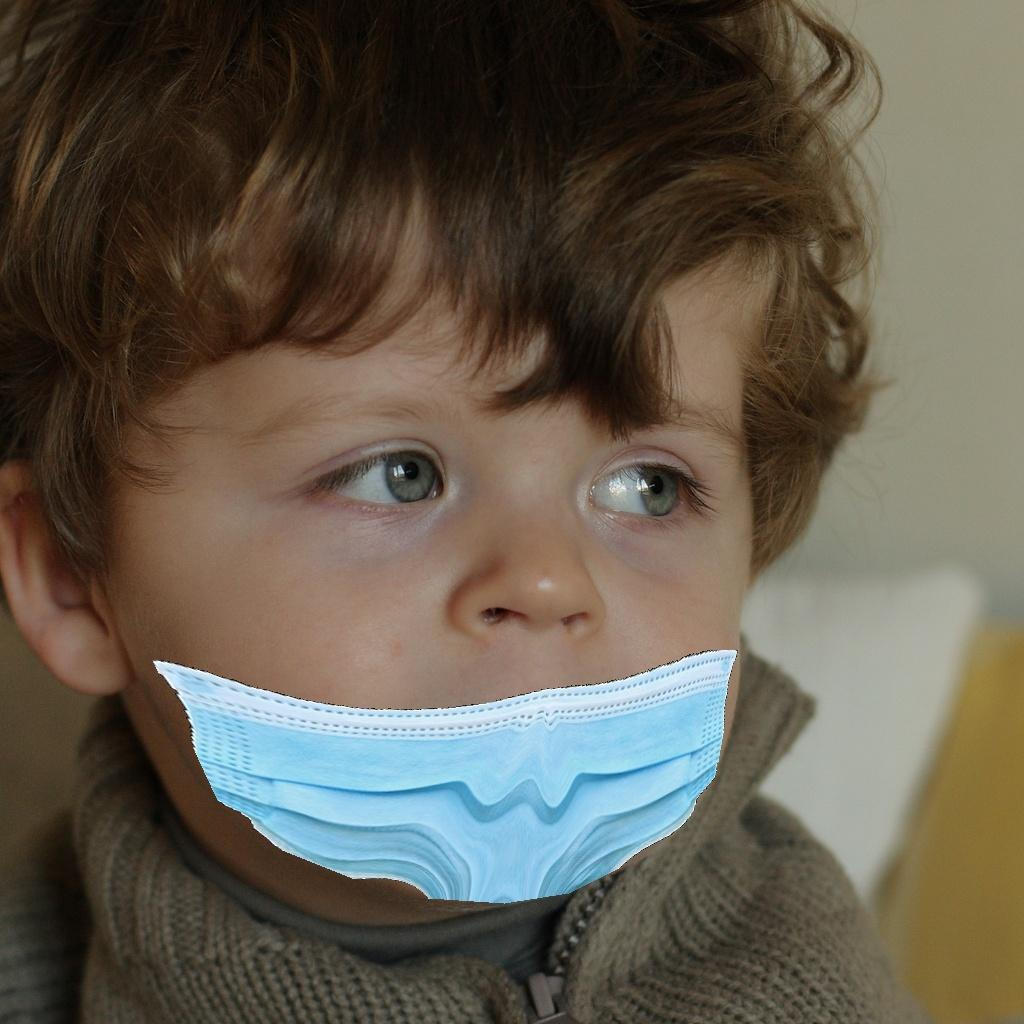Máscara Incorreta: (175, 341, 751, 889)
